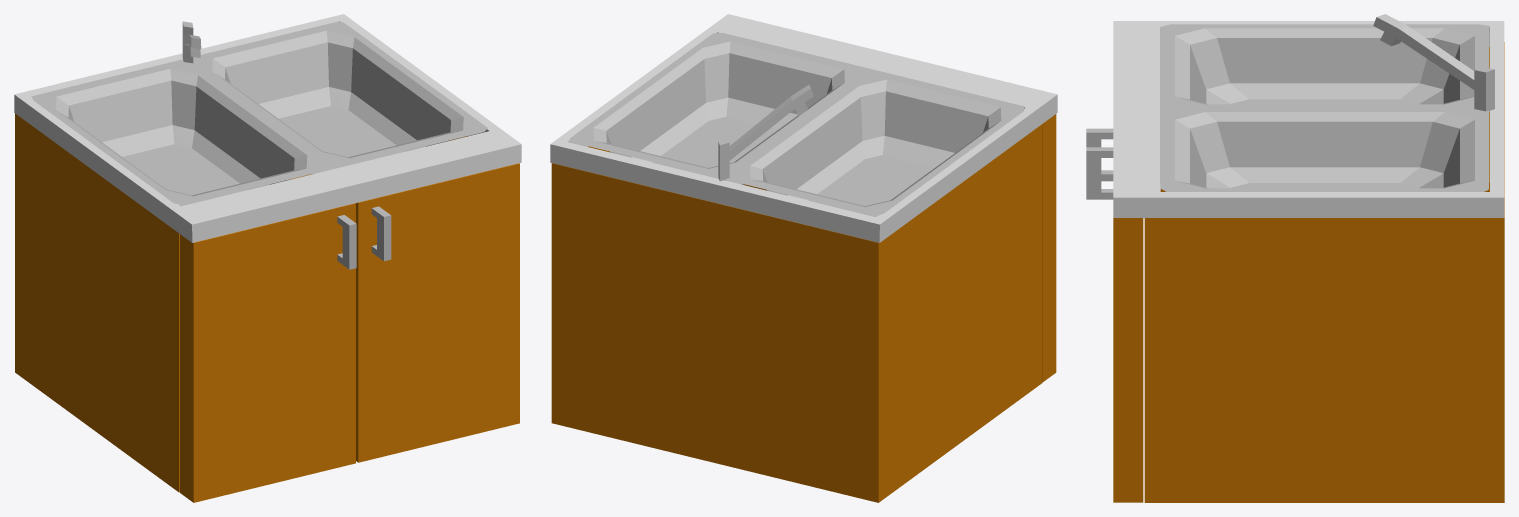
Rendered from sh-contrib-lavello-doppio-90x60.glb.
The picture shows the model from 3 angles, left to right: view 1: azimuth 30°, elevation 25°; view 2: azimuth 150°, elevation 25°; view 3: azimuth 270°, elevation 25°; orthographic projection. The views are drawn at different scales.
Parts seen in each view (by area): view 1: Cube.002_Cube.002_Wood_Cherry, Plane_Plane_Aluminum, Plane.001_Plane.001_Material; view 2: Cube.002_Cube.002_Wood_Cherry, Plane_Plane_Aluminum, Plane.001_Plane.001_Material; view 3: Cube.002_Cube.002_Wood_Cherry, Plane_Plane_Aluminum, Plane.001_Plane.001_Material.
Part boxes in pixels (bbox=[...]): Cube.002_Cube.002_Wood_Cherry: bbox=[15, 113, 519, 502]; Plane_Plane_Aluminum: bbox=[31, 21, 487, 269]; Plane.001_Plane.001_Material: bbox=[14, 14, 521, 242]; Cube.002_Cube.002_Wood_Cherry: bbox=[551, 114, 1056, 502]; Plane_Plane_Aluminum: bbox=[569, 33, 1024, 217]; Plane.001_Plane.001_Material: bbox=[550, 14, 1057, 242]; Cube.002_Cube.002_Wood_Cherry: bbox=[1113, 42, 1504, 502]; Plane_Plane_Aluminum: bbox=[1086, 14, 1494, 199]; Plane.001_Plane.001_Material: bbox=[1113, 21, 1504, 217].
Bounding box in the file's own units: 1 × 1 × 1.
